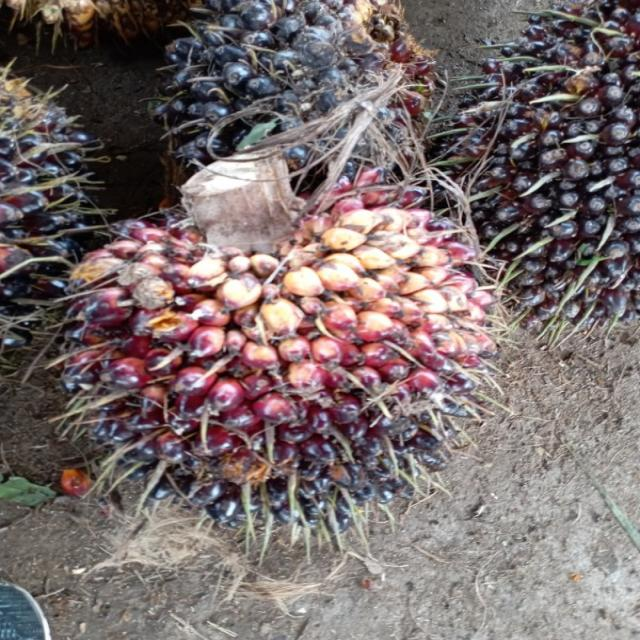fraksi 1: (36, 138, 512, 564)
